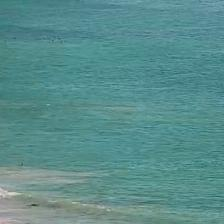surfer: (59, 40, 66, 43), (20, 162, 24, 166), (42, 37, 46, 41), (57, 37, 61, 41), (13, 36, 16, 39), (51, 39, 54, 42)
